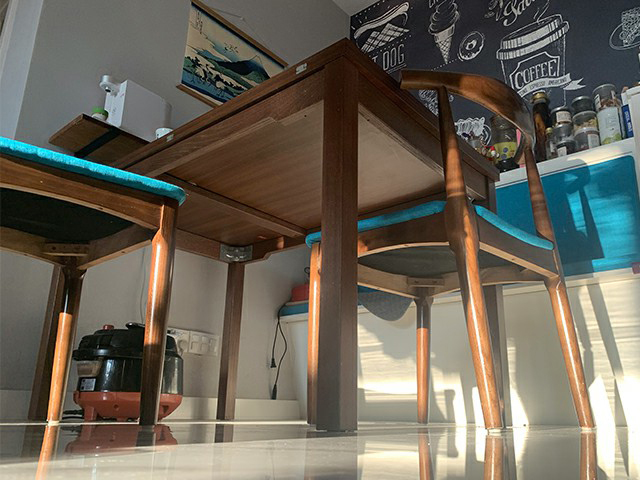stool: (303, 67, 597, 434), (1, 133, 187, 439)
table: (27, 37, 509, 433)
